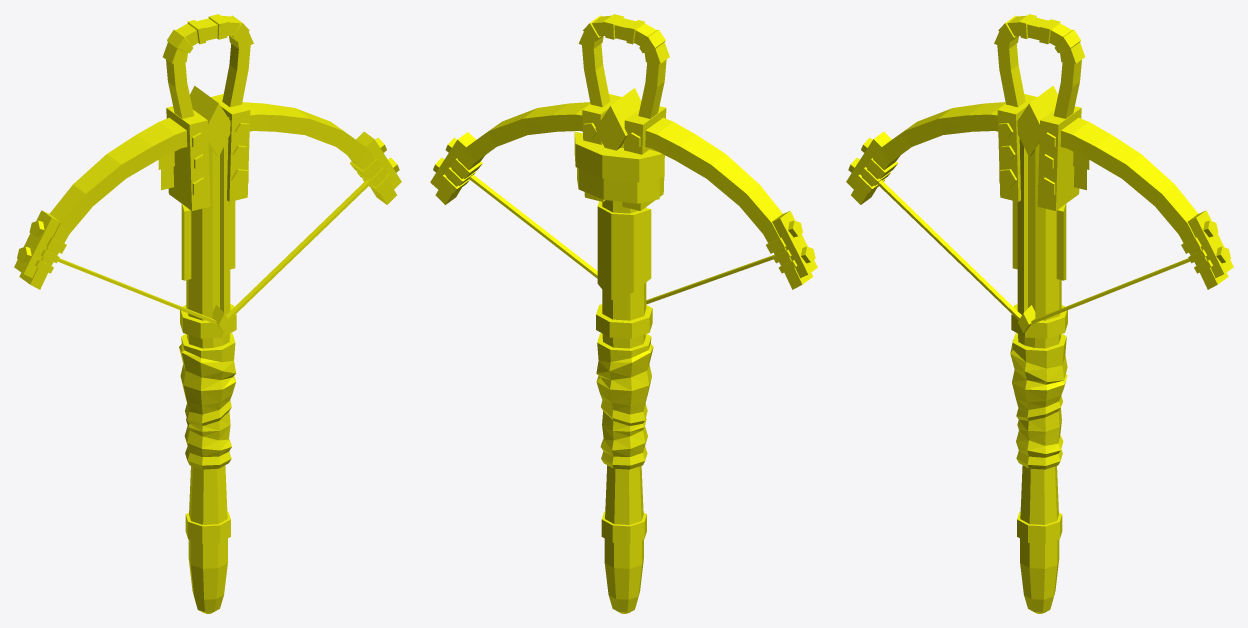
File: _crossbow_14.glb
3 views of the same model, side by side, from view 1: azimuth 30°, elevation 25°; view 2: azimuth 150°, elevation 25°; view 3: azimuth 330°, elevation 25° (orthographic).
Parts seen in each view (by area): view 1: crossbow_14; view 2: crossbow_14; view 3: crossbow_14.
Part boxes in pixels (bbox=[...]): crossbow_14: bbox=[14, 14, 401, 613]; crossbow_14: bbox=[430, 14, 817, 613]; crossbow_14: bbox=[846, 14, 1233, 613].
Bounding box in the file's own units: 0.6469 × 0.9644 × 0.1137.
1 material, 1 textured.
